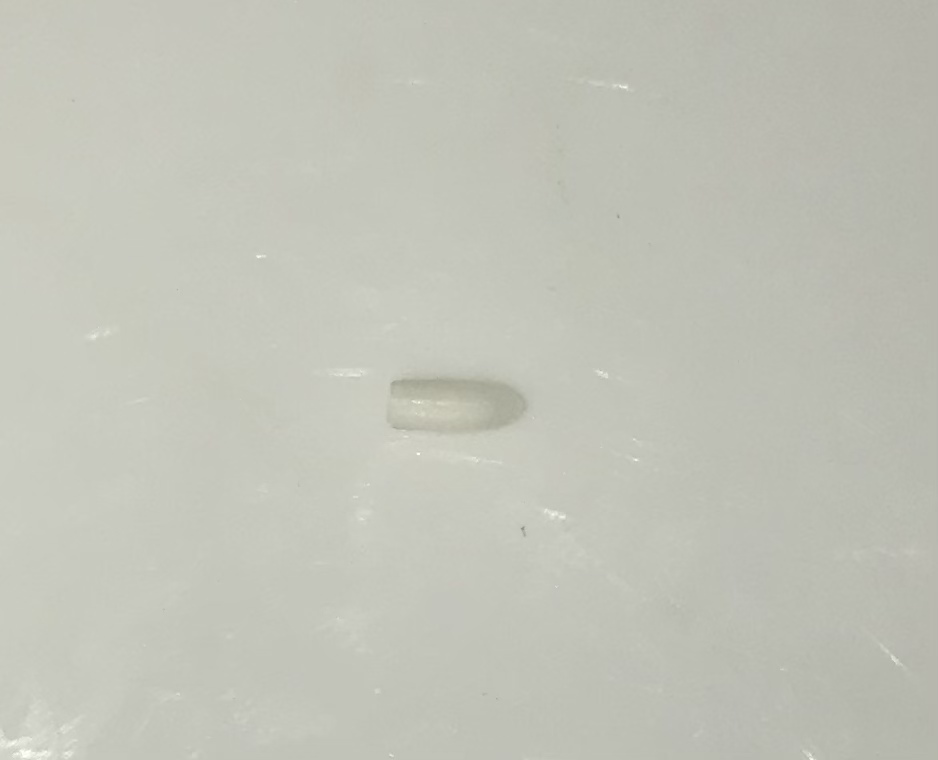Gao Lai Sua: (380, 361, 529, 446)
